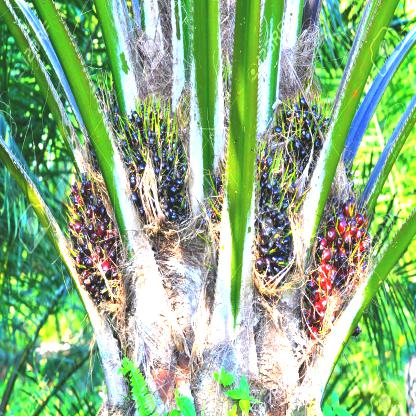1: (304, 202, 374, 345), (62, 176, 131, 315)
palm-oil: (215, 146, 292, 284), (109, 103, 192, 225), (74, 76, 122, 163), (275, 100, 327, 176)
